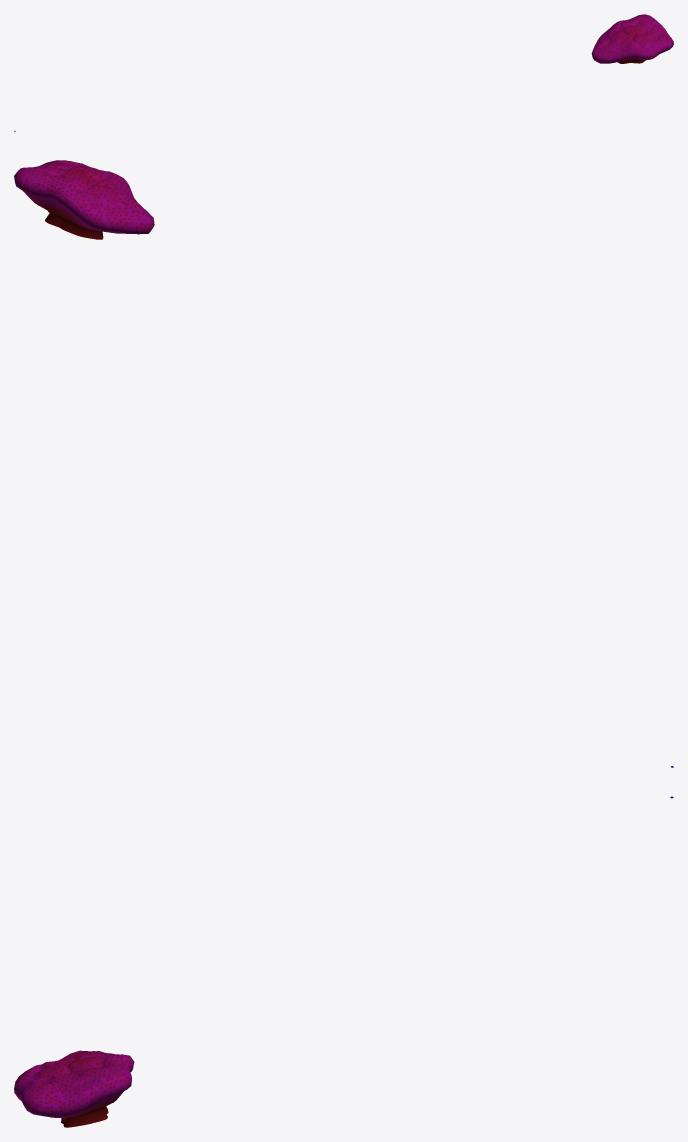
The model's file is leather_pink.glb.
3 views of the same model, one above another, from view 1: azimuth 30°, elevation 25°; view 2: azimuth 150°, elevation 25°; view 3: azimuth 270°, elevation 25° (orthographic). The views are drawn at different scales.
Parts seen in each view (by area): view 1: Body; view 2: Body; view 3: Body.
Boxes of the visible parts, bbox=[...] form: Body: bbox=[591, 14, 673, 63]; Body: bbox=[14, 160, 154, 239]; Body: bbox=[14, 1050, 134, 1127].
Size of the model in its own units: 61.84 by 11.69 by 35.67.
3 materials, 3 textured.
